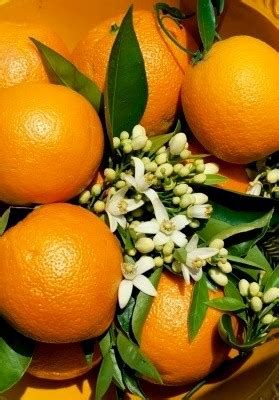orange: (1, 202, 127, 351), (180, 34, 279, 167), (1, 83, 103, 204), (70, 9, 190, 103)
